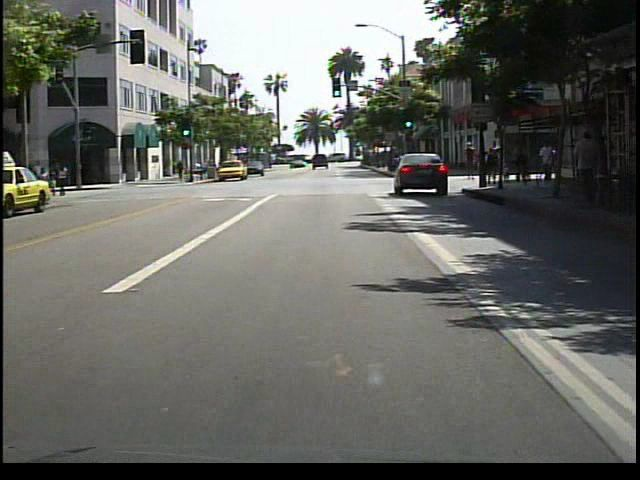person: (56, 161, 77, 202), (461, 140, 478, 184)
